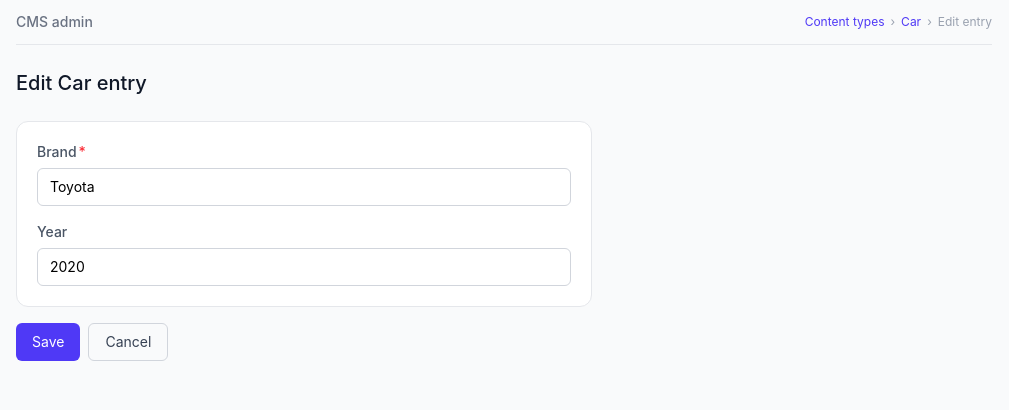
Test: EditEntry › shows API error when updateEntry fails with a generic error
Expected: the field showing "Toyota" is shown, [37,168,571,206]
Step 1. Click the button "Save" → point(48, 342), box [16,323,80,361]
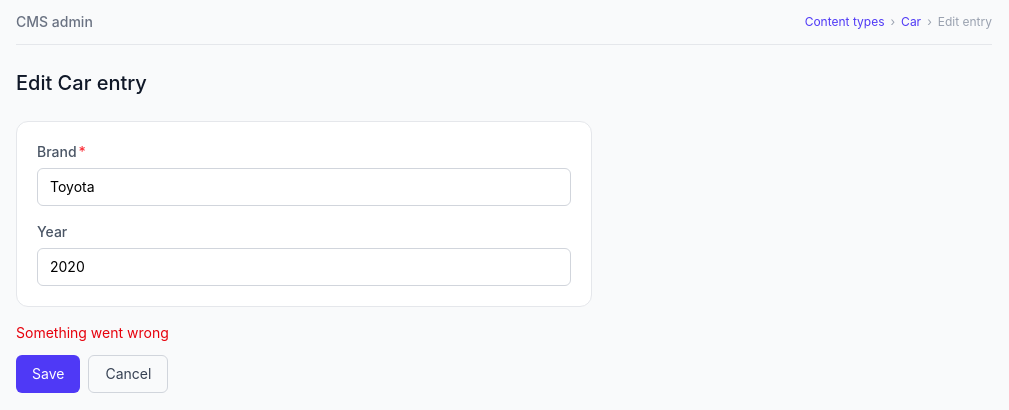
Expected: the text "Something went wrong" is shown, [16,324,169,341]
